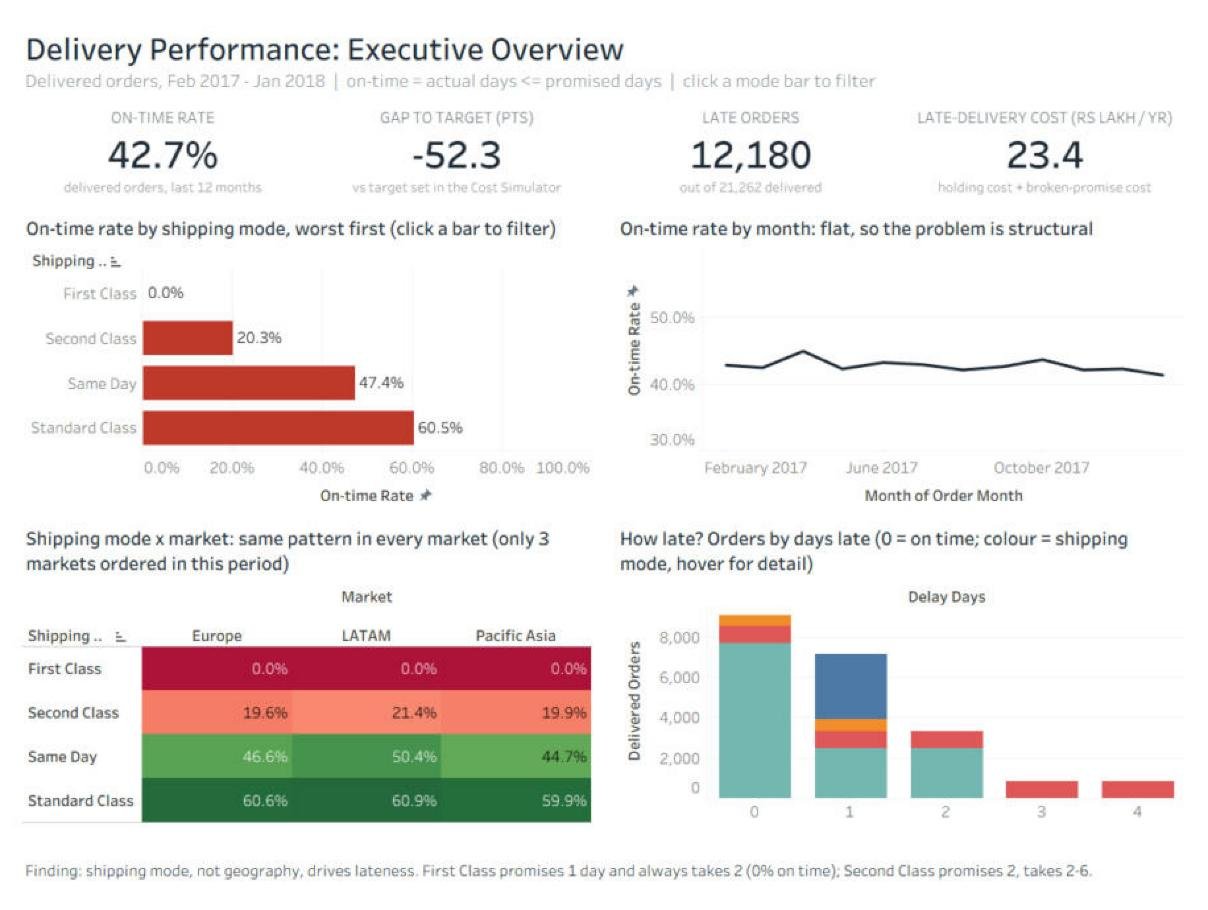

The dashboard page shown, as its layout file describes it:
{"tool":"tableau","page":{"name":"Executive Overview","canvas":[1200,900],"ordinal":0},"visuals":[{"type":"text","box":[18,5.4,1164,75.6]},{"type":"worksheet","title":"Overview KPI On-time","mark":"Text","box":[18,84.6,282,99]},{"type":"worksheet","title":"Overview KPI Gap","mark":"Text","box":[312,84.6,282,99]},{"type":"worksheet","title":"Overview KPI Late","mark":"Text","box":[606,84.6,282,99]},{"type":"worksheet","title":"Overview KPI Cost","mark":"Text","box":[900,84.6,282,99]},{"type":"worksheet","title":"On-time by Mode","mark":"Bar","rows":["Shipping Mode"],"cols":["Calculation_9100"],"box":[18,193.5,570,301.5]},{"type":"worksheet","title":"Monthly Trend","mark":"Line","rows":["Calculation_9100"],"cols":["Order Month"],"box":[612,193.5,570,301.5]},{"type":"worksheet","title":"Mode x Market Heatmap","mark":"Square","rows":["Shipping Mode"],"cols":["Market"],"box":[18,504,570,301.5]},{"type":"worksheet","title":"Delay Distribution","mark":"Bar","rows":["Calculation_9101"],"cols":["Delay Days"],"box":[612,504,570,301.5]},{"type":"text","box":[18,814.5,1164,76.5]}]}

Visuals, with their boxes in screenshot pixels (x1, y1, x2, y2), scaled from the page's 1200x900 canvas onto the 1208x910 screenshot:
text: crop(18, 5, 1190, 82)
"Overview KPI On-time" worksheet (Text marks): crop(18, 86, 302, 186)
"Overview KPI Gap" worksheet (Text marks): crop(314, 86, 598, 186)
"Overview KPI Late" worksheet (Text marks): crop(610, 86, 894, 186)
"Overview KPI Cost" worksheet (Text marks): crop(906, 86, 1190, 186)
"On-time by Mode" worksheet (Bar marks): crop(18, 196, 592, 500)
"Monthly Trend" worksheet (Line marks): crop(616, 196, 1190, 500)
"Mode x Market Heatmap" worksheet (Square marks): crop(18, 510, 592, 814)
"Delay Distribution" worksheet (Bar marks): crop(616, 510, 1190, 814)
text: crop(18, 824, 1190, 901)
